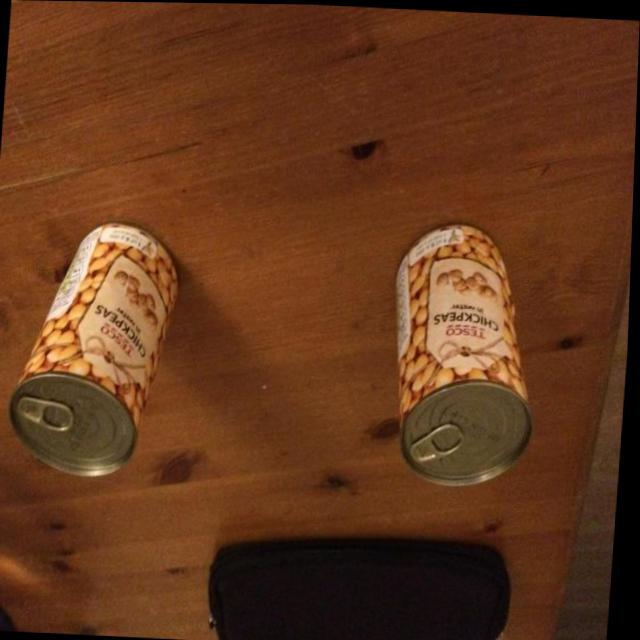metal: (11, 224, 176, 476), (396, 225, 530, 484), (209, 539, 509, 639)
